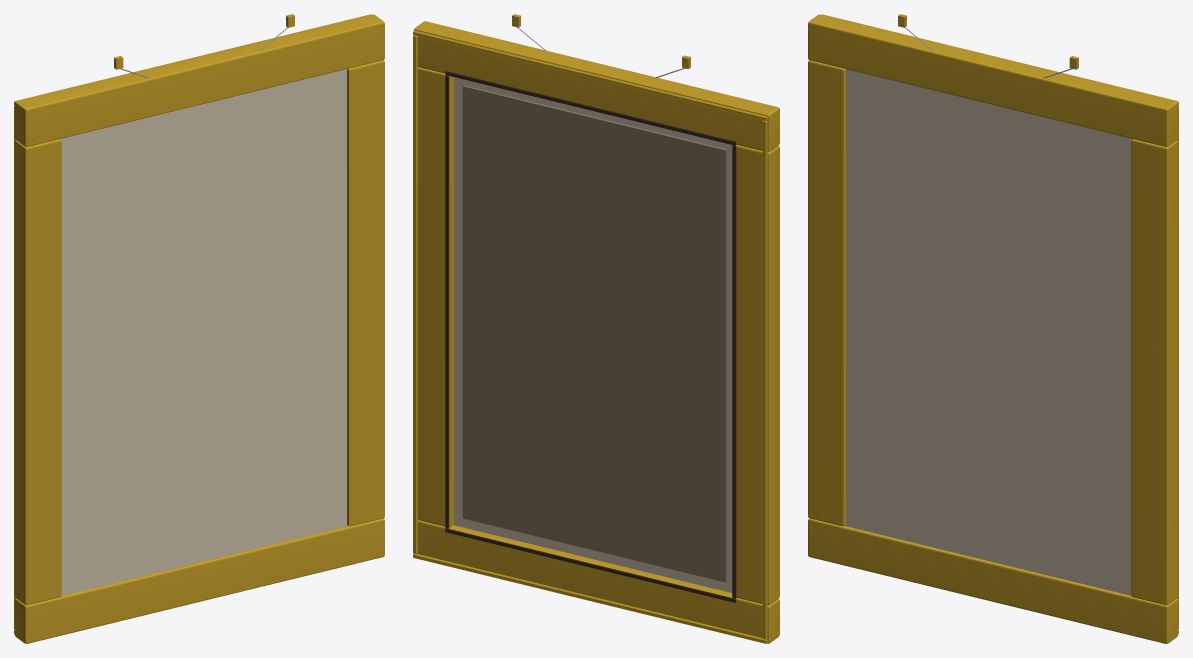
The model's file is prop_canvas_saint.glb.
3 views of the same model, side by side, from view 1: azimuth 30°, elevation 25°; view 2: azimuth 150°, elevation 25°; view 3: azimuth 330°, elevation 25° (orthographic).
Visible parts, largest first — view 1: Canvas; view 2: Paint, Canvas; view 3: Canvas.
Boxes of the visible parts, left/top/right/bottom form: Canvas: left=14, top=14, right=384, bottom=643; Paint: left=462, top=85, right=727, bottom=582; Canvas: left=413, top=21, right=779, bottom=643; Canvas: left=808, top=14, right=1178, bottom=643.
Size of the model in its own units: 1.07 by 1.6 by 0.068.
